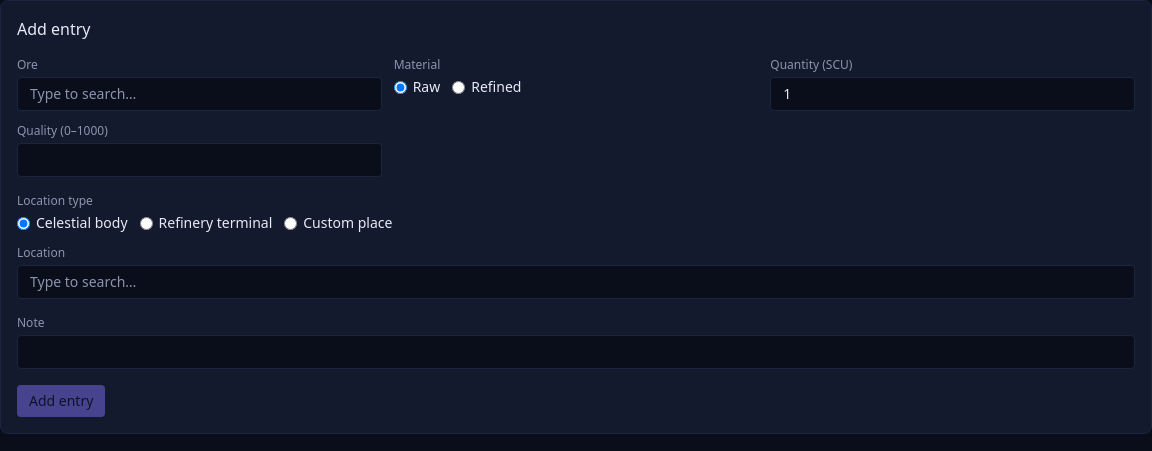
WarehouseEntryForm › shows the body's system as autocomplete detail
The width and height of the screenshot is (1152, 451).
Click the dropdown labelled "Location" at point(576, 282), box [17,265,1135,299]
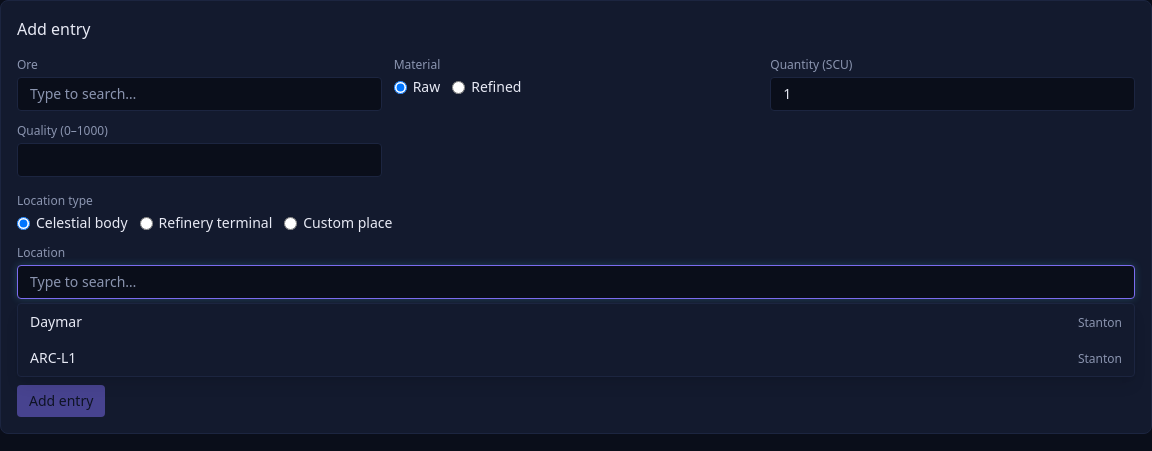
Expected: the option "Daymar Stanton" is shown, [30,312,1122,331]
